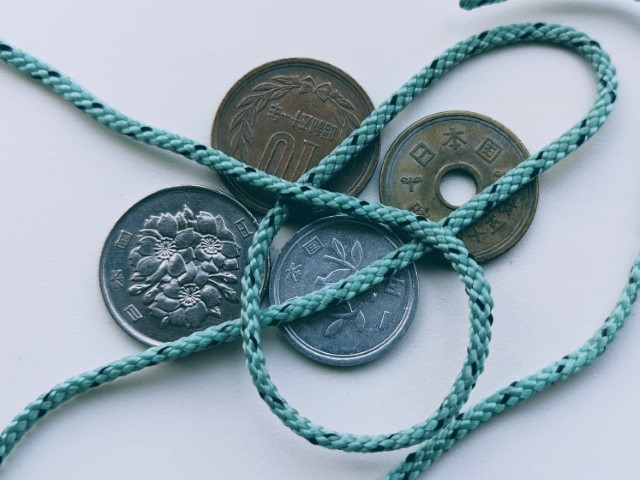100yen: (99, 185, 271, 355)
10yen: (211, 58, 380, 222)
1yen: (269, 214, 419, 367)
5yen: (379, 109, 539, 267)
